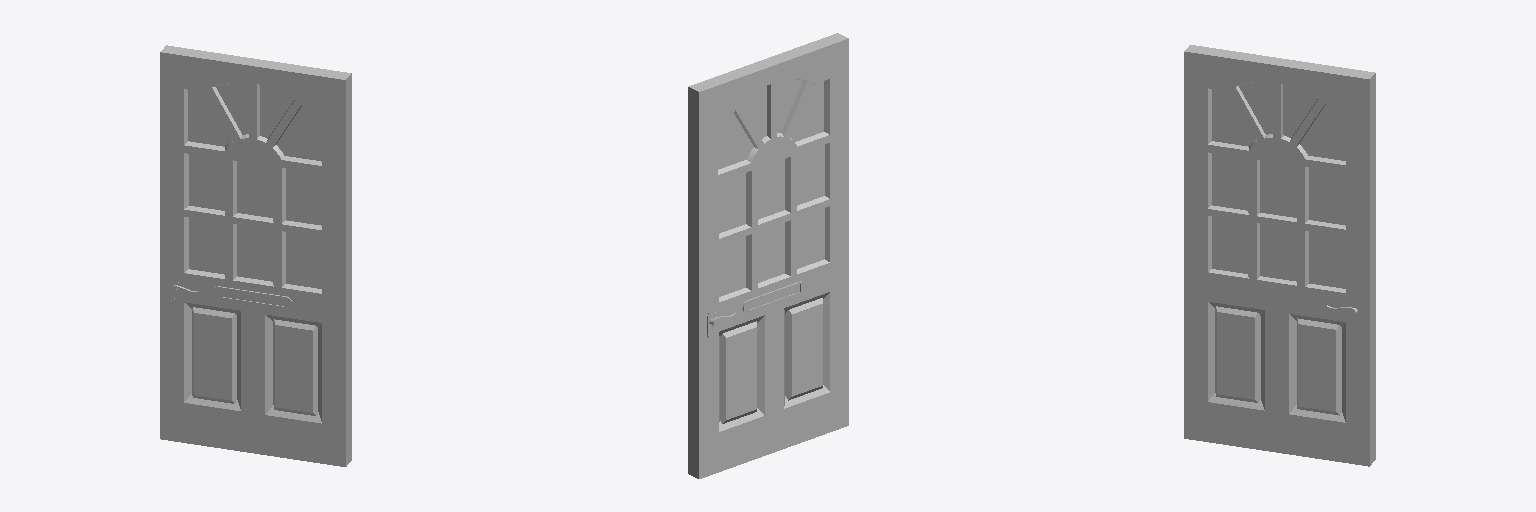
File: door2_000014.obj
The picture shows the model from 3 angles: view 1: azimuth 90°, elevation 25°; view 2: azimuth 150°, elevation 25°; view 3: azimuth 270°, elevation 25°; orthographic projection.
Visible parts, largest first — view 1: Door.000_Door.004; view 2: Door.000_Door.004; view 3: Door.000_Door.004.
Part boxes in pixels (x1,y1,x2,y2): Door.000_Door.004: (160, 45, 351, 466); Door.000_Door.004: (688, 33, 848, 478); Door.000_Door.004: (1184, 45, 1375, 466).
Bounding box in the file's own units: 0.316 × 1.6 × 0.7183.